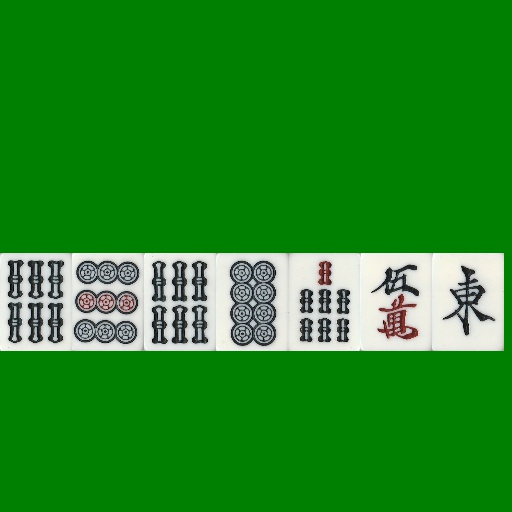5m: (360, 253, 432, 351)
6s: (0, 253, 72, 351), (144, 253, 216, 351)
7s: (288, 253, 360, 351)
8p: (216, 253, 288, 351)
9p: (72, 253, 144, 351)
east: (432, 253, 504, 351)
